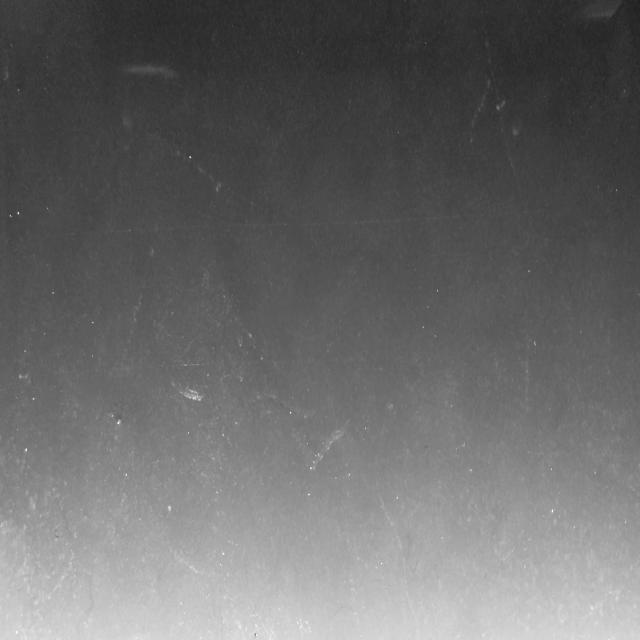beta: (230, 66, 310, 262), (373, 422, 421, 640), (478, 10, 524, 196), (170, 140, 272, 213), (124, 241, 156, 360), (466, 49, 502, 139), (229, 312, 278, 370), (48, 545, 76, 603), (164, 538, 201, 575), (112, 490, 125, 525)
